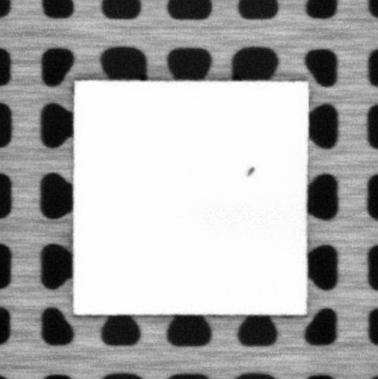DIE_INK: (245, 164, 256, 177)
